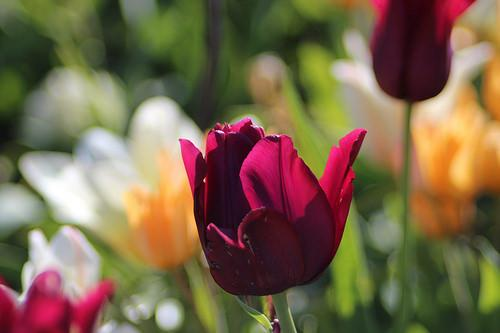tulip: (178, 111, 367, 298), (368, 0, 478, 103), (0, 267, 117, 333)
